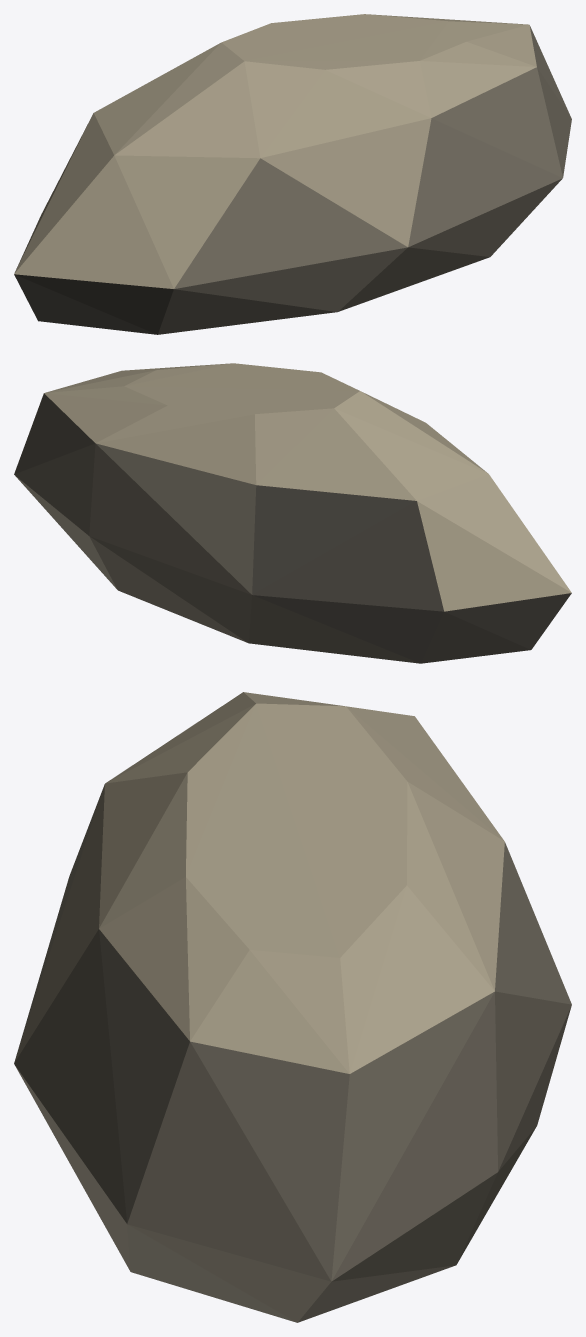
Rendered from TW_ROCK_LOW_WEDGE_B_LOD0.glb.
3 renders of one model, top to bottom at view 1: azimuth 30°, elevation 25°; view 2: azimuth 150°, elevation 25°; view 3: azimuth 270°, elevation 25°, orthographic. The views are drawn at different scales.
Visible parts, largest first — view 1: TW_ROCK_LOW_WEDGE_B_LOD0; view 2: TW_ROCK_LOW_WEDGE_B_LOD0; view 3: TW_ROCK_LOW_WEDGE_B_LOD0.
Boxes of the visible parts, <box> form: TW_ROCK_LOW_WEDGE_B_LOD0: <box>14,14,571,334</box>; TW_ROCK_LOW_WEDGE_B_LOD0: <box>14,363,571,663</box>; TW_ROCK_LOW_WEDGE_B_LOD0: <box>14,692,571,1322</box>.
Size of the model in its own units: 1.61 by 0.5906 by 0.769.
1 material, 1 textured.
